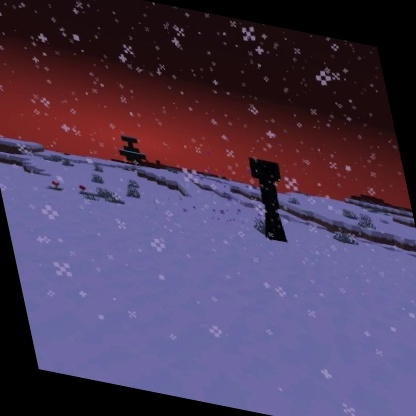enderman: (245, 155, 298, 247)
